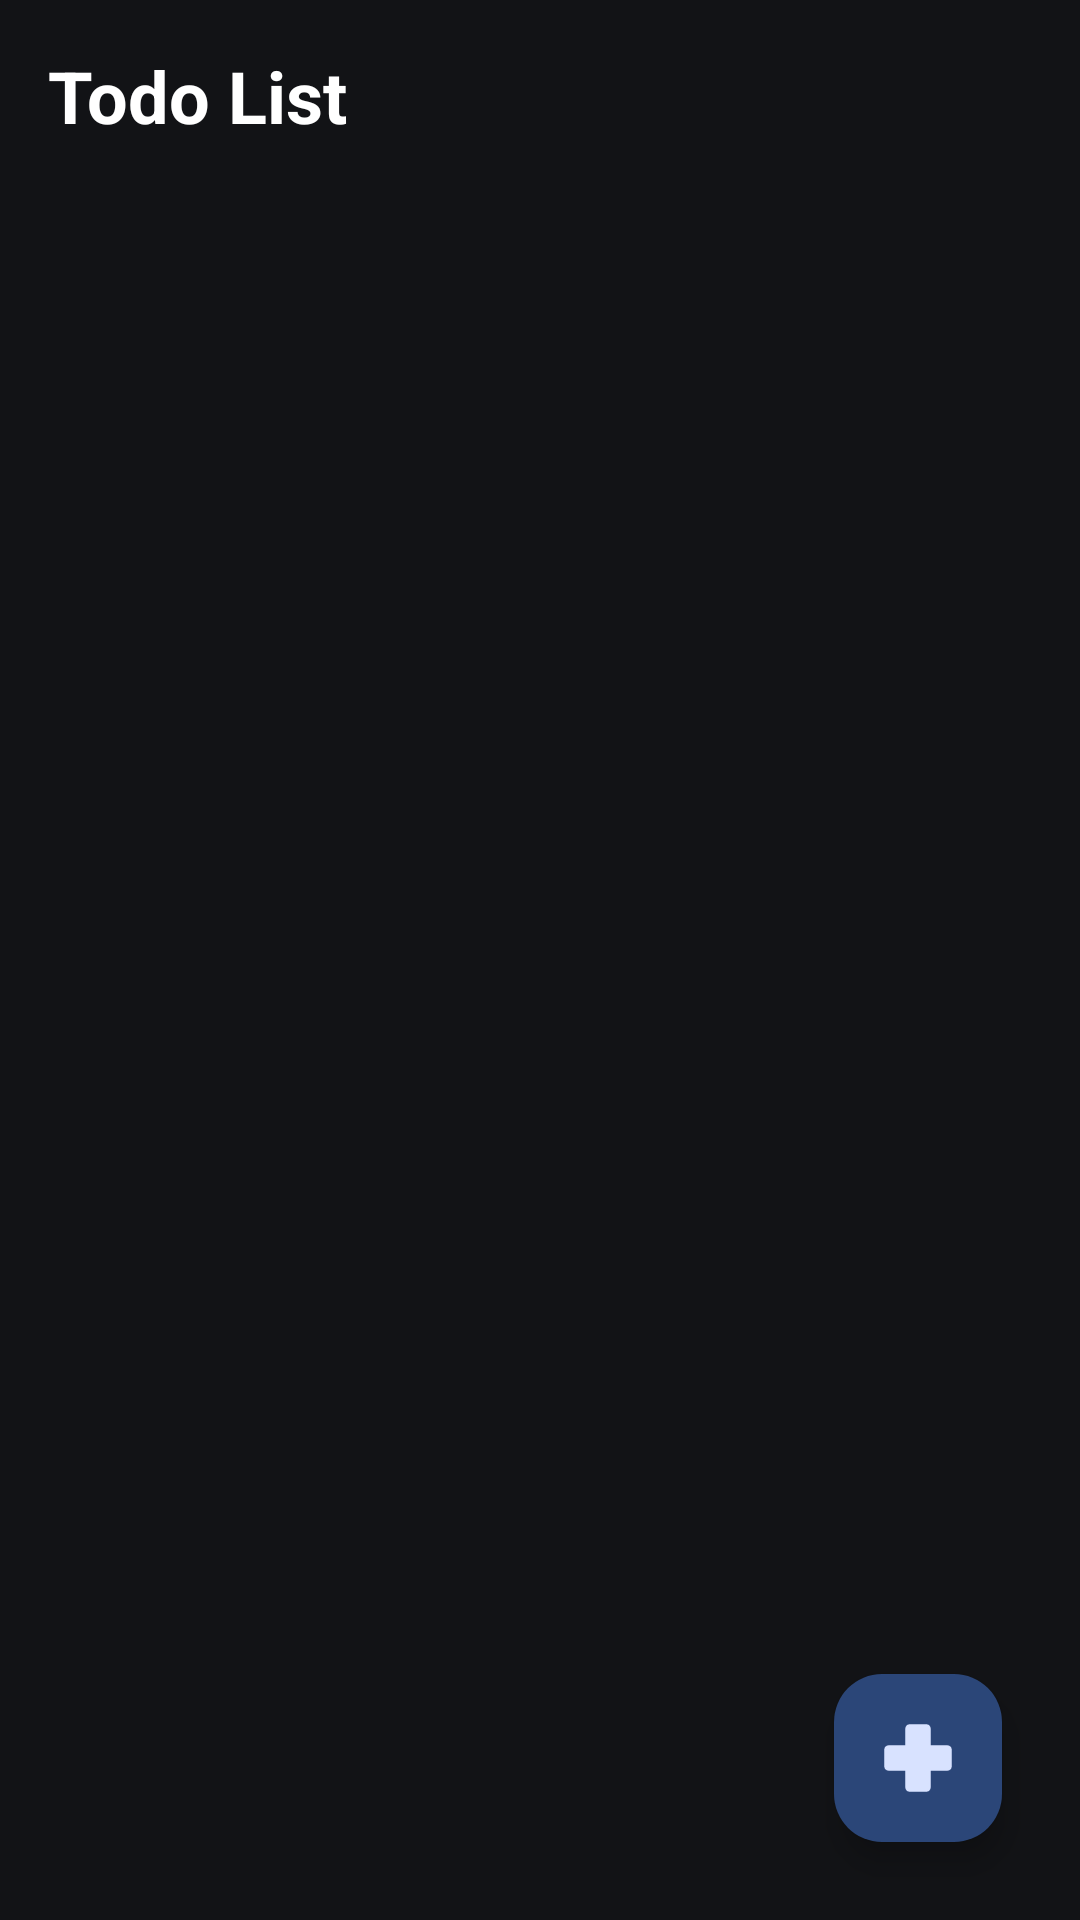

Where icons sit on this 1080x1920 app screen, as rect(x1, y1, x2, y2):
plus: rect(834, 1674, 1002, 1842)
